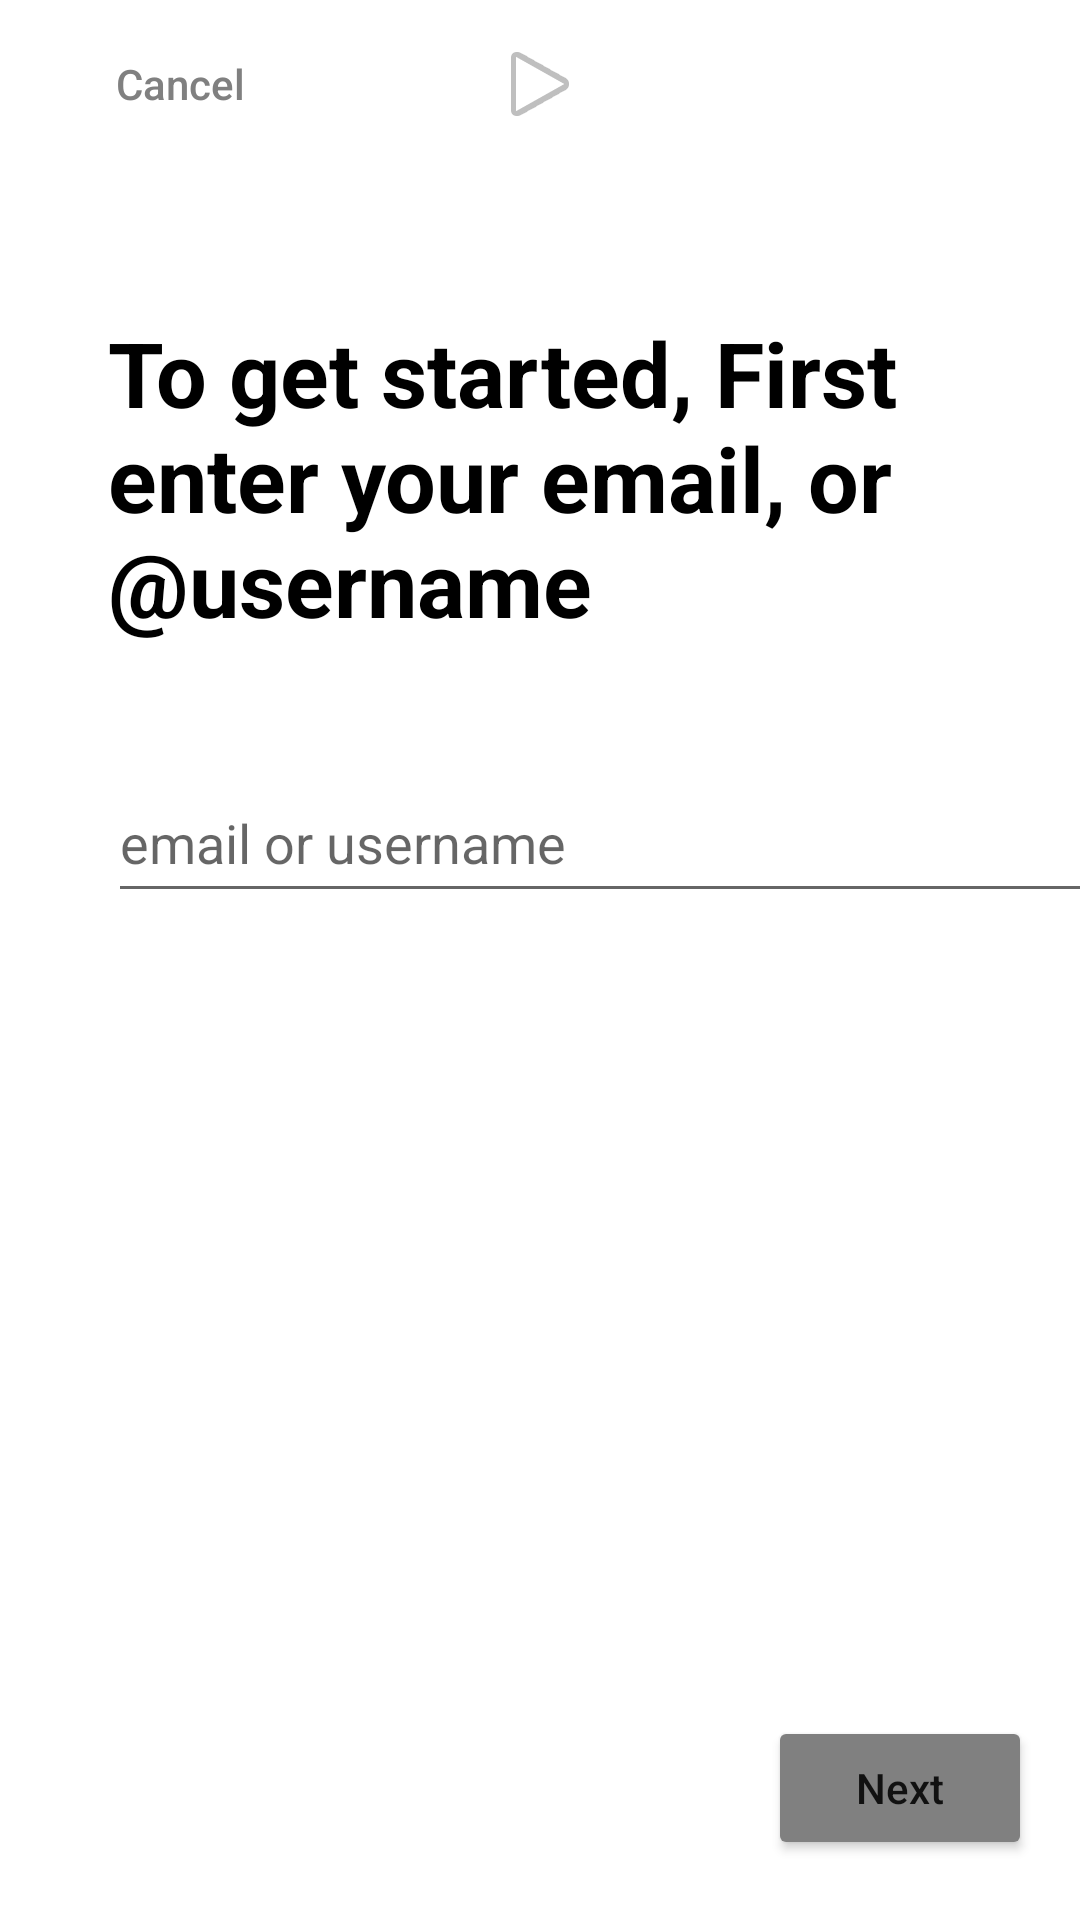

Icon bounding boxes for this 1080w x 1920h phone screenshot, format Rect(x1, y1, x2, y2):
play: Rect(511, 52, 569, 116)
